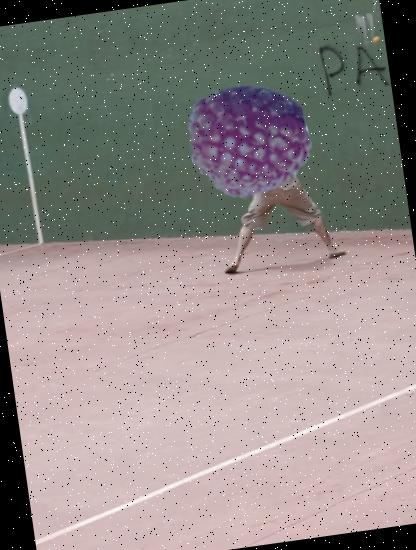Raspberry: (180, 72, 318, 209)
